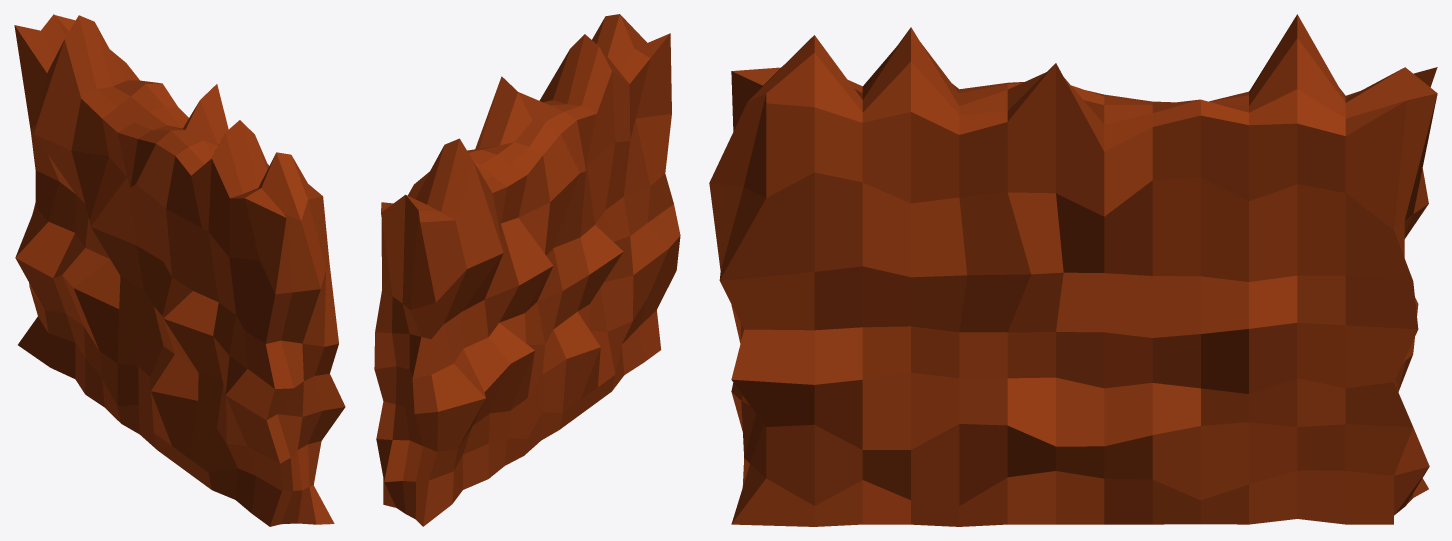
The model's file is Hell Wall 02.fbx.
3 renders of one model, left to right at view 1: azimuth 30°, elevation 25°; view 2: azimuth 150°, elevation 25°; view 3: azimuth 270°, elevation 25°, orthographic. The views are drawn at different scales.
Parts seen in each view (by area): view 1: Hell Wall 2; view 2: Hell Wall 2; view 3: Hell Wall 2.
Boxes of the visible parts, x1=… form: Hell Wall 2: x1=14, y1=14, x2=345, y2=526; Hell Wall 2: x1=374, y1=14, x2=680, y2=526; Hell Wall 2: x1=709, y1=14, x2=1437, y2=526.
Bounding box in the file's own units: 1624 × 1196 × 395.
